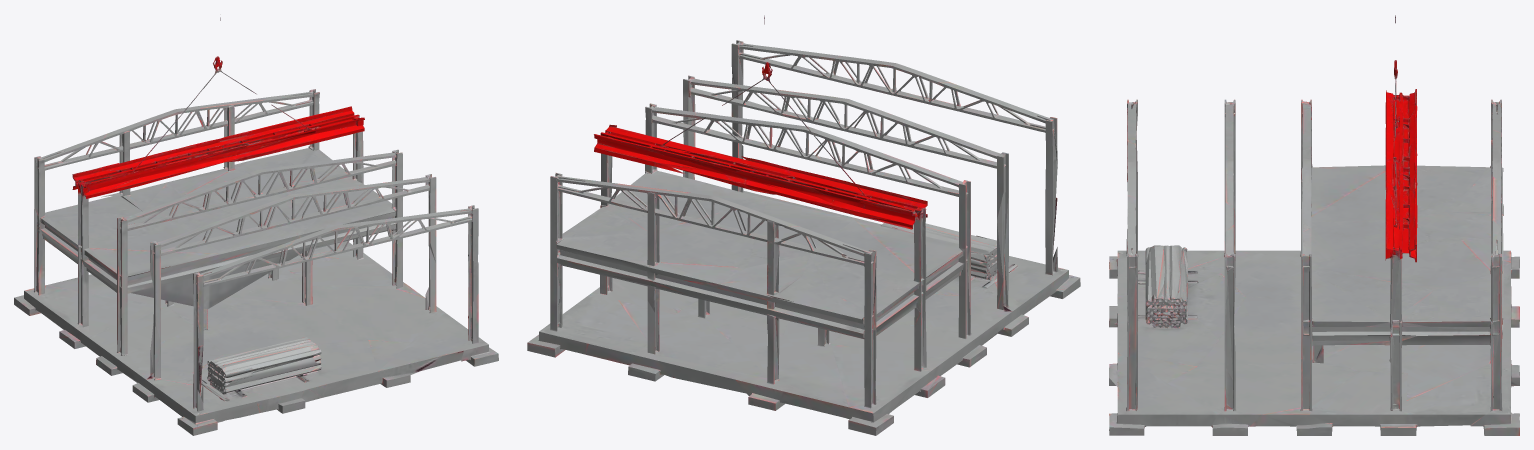
File: construct.glb
The picture shows the model from 3 angles, left to right: view 1: azimuth 30°, elevation 25°; view 2: azimuth 150°, elevation 25°; view 3: azimuth 270°, elevation 25°; orthographic projection. The views are drawn at different scales.
Bounding box in the file's own units: 1.45 × 1.34 × 1.48.
Materials: 1 (1 with a texture image).
